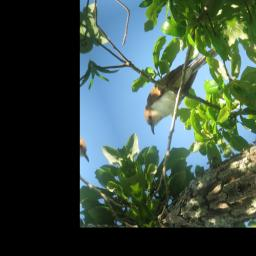Cuckoo: (131, 43, 239, 139)
